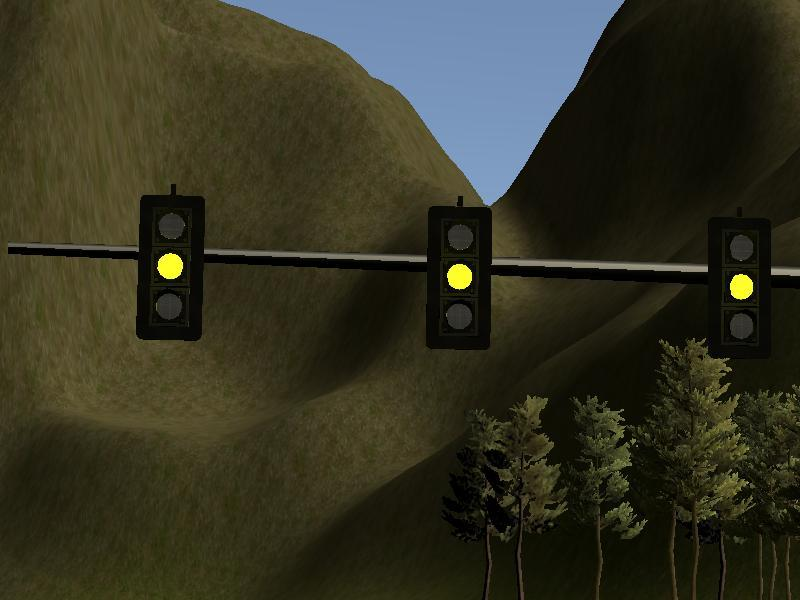Yellow: (138, 194, 204, 342), (428, 206, 492, 350), (707, 216, 771, 360)
